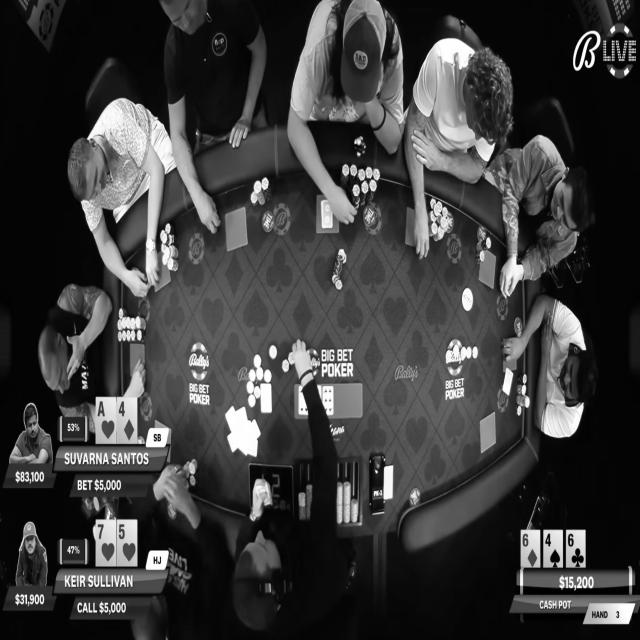4D: (116, 398, 137, 443)
4S: (544, 530, 562, 568)
5H: (117, 519, 137, 566)
6C: (567, 530, 585, 568)
6D: (521, 530, 540, 568)
7H: (96, 520, 116, 567)
AH: (95, 397, 117, 443)
